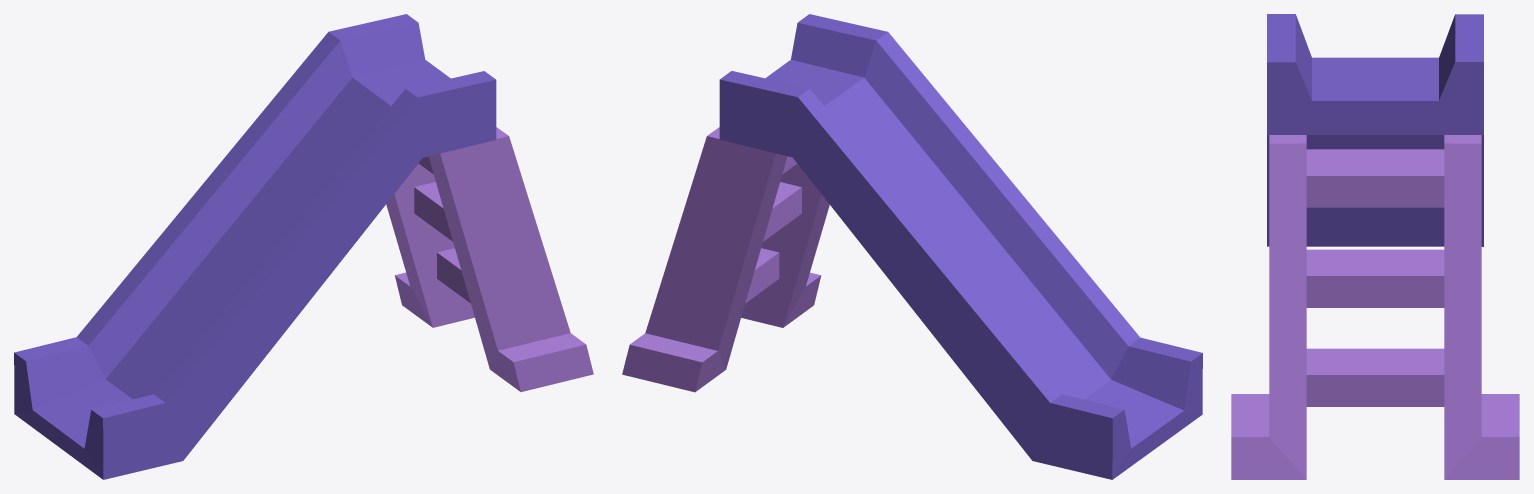
The model's file is hill01_s03.FBX.
3 renders of one model, left to right at view 1: azimuth 30°, elevation 25°; view 2: azimuth 150°, elevation 25°; view 3: azimuth 270°, elevation 25°, orthographic. The views are drawn at different scales.
Visible parts, largest first — view 1: hill01_s03; view 2: hill01_s03; view 3: hill01_s03.
Boxes of the visible parts, x1,y1,x2,y2 form: hill01_s03: (14,14,593,479); hill01_s03: (622,14,1202,479); hill01_s03: (1231,14,1519,479).
Bounding box in the file's own units: 242 × 105 × 149.
Materials: 1 (1 with a texture image).
